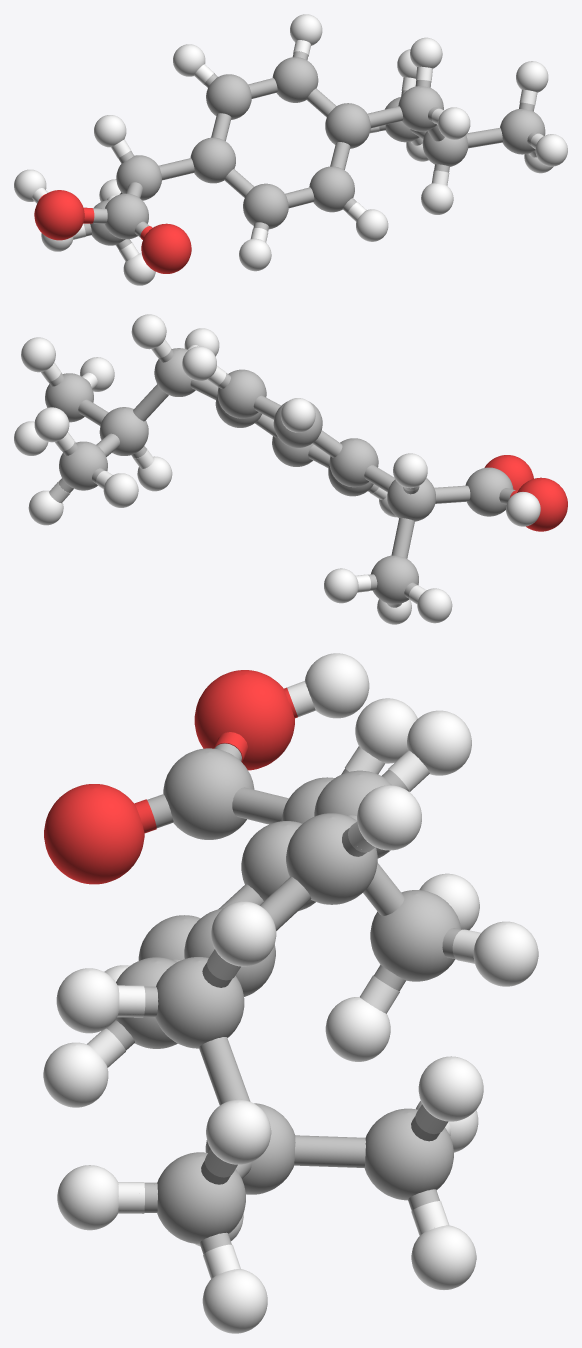
File: ibuprofen R.glb
The picture shows the model from 3 angles, top to bottom: view 1: azimuth 30°, elevation 25°; view 2: azimuth 150°, elevation 25°; view 3: azimuth 270°, elevation 25°; orthographic projection. The views are drawn at different scales.
Parts seen in each view (by area): view 1: Oxygen_ball, Oxygen_ball.001, Carbon_ball.002, Carbon_ball.003, Carbon_ball.001, Carbon_ball, Carbon_ball.004, Carbon_ball.005, Carbon_ball.012, Carbon_ball.008, Carbon_ball.006, Carbon_ball.010 (+17 smaller); view 2: Carbon_ball.002, Carbon_ball.003, Carbon_ball.011, Carbon_ball.012, Carbon_ball.009, Carbon_ball.007, Oxygen_ball, Carbon_ball.008, Carbon_ball.010, Carbon_ball.006, Carbon_ball, Hydrogen_ball.011 (+19 smaller); view 3: Oxygen_ball.001, Oxygen_ball, Carbon_ball.012, Carbon_ball.011, Carbon_ball.009, Carbon_ball.006, Carbon_ball.008, Carbon_ball.003, Hydrogen_ball.011, Hydrogen_ball.014, Hydrogen_ball.005, Hydrogen_ball.009 (+18 smaller).
Boxes of the visible parts, bbox=[...] form: Oxygen_ball: bbox=[34, 190, 84, 240]; Oxygen_ball.001: bbox=[141, 223, 191, 273]; Carbon_ball.002: bbox=[190, 137, 235, 183]; Carbon_ball.003: bbox=[272, 57, 318, 102]; Carbon_ball.001: bbox=[309, 166, 354, 212]; Carbon_ball: bbox=[206, 74, 251, 119]; Carbon_ball.004: bbox=[325, 103, 370, 148]; Carbon_ball.005: bbox=[243, 183, 288, 229]; Carbon_ball.012: bbox=[104, 193, 148, 239]; Carbon_ball.008: bbox=[500, 109, 545, 154]; Carbon_ball.006: bbox=[398, 86, 443, 131]; Carbon_ball.010: bbox=[116, 155, 161, 200]; Carbon_ball.002: bbox=[329, 438, 378, 487]; Carbon_ball.003: bbox=[217, 369, 266, 418]; Carbon_ball.011: bbox=[371, 555, 418, 604]; Carbon_ball.012: bbox=[465, 467, 513, 516]; Carbon_ball.009: bbox=[59, 441, 107, 490]; Carbon_ball.007: bbox=[99, 407, 148, 455]; Oxygen_ball: bbox=[517, 477, 567, 531]; Carbon_ball.008: bbox=[45, 373, 93, 422]; Carbon_ball.010: bbox=[387, 478, 435, 521]; Carbon_ball.006: bbox=[154, 348, 195, 396]; Carbon_ball: bbox=[273, 401, 322, 447]; Hydrogen_ball.011: bbox=[34, 407, 69, 442]; Oxygen_ball.001: bbox=[44, 784, 144, 884]; Oxygen_ball: bbox=[194, 670, 294, 770]; Carbon_ball.012: bbox=[163, 748, 254, 839]; Carbon_ball.011: bbox=[370, 890, 461, 981]; Carbon_ball.009: bbox=[364, 1108, 453, 1200]; Carbon_ball.006: bbox=[155, 957, 244, 1048]; Carbon_ball.008: bbox=[157, 1152, 245, 1243]; Carbon_ball.003: bbox=[286, 813, 377, 904]; Hydrogen_ball.011: bbox=[418, 1056, 483, 1121]; Hydrogen_ball.014: bbox=[473, 921, 538, 986]; Hydrogen_ball.005: bbox=[211, 901, 276, 966]; Hydrogen_ball.009: bbox=[206, 1099, 271, 1164].
Size of the model in its own units: 11.65 by 4.77 by 4.86.
